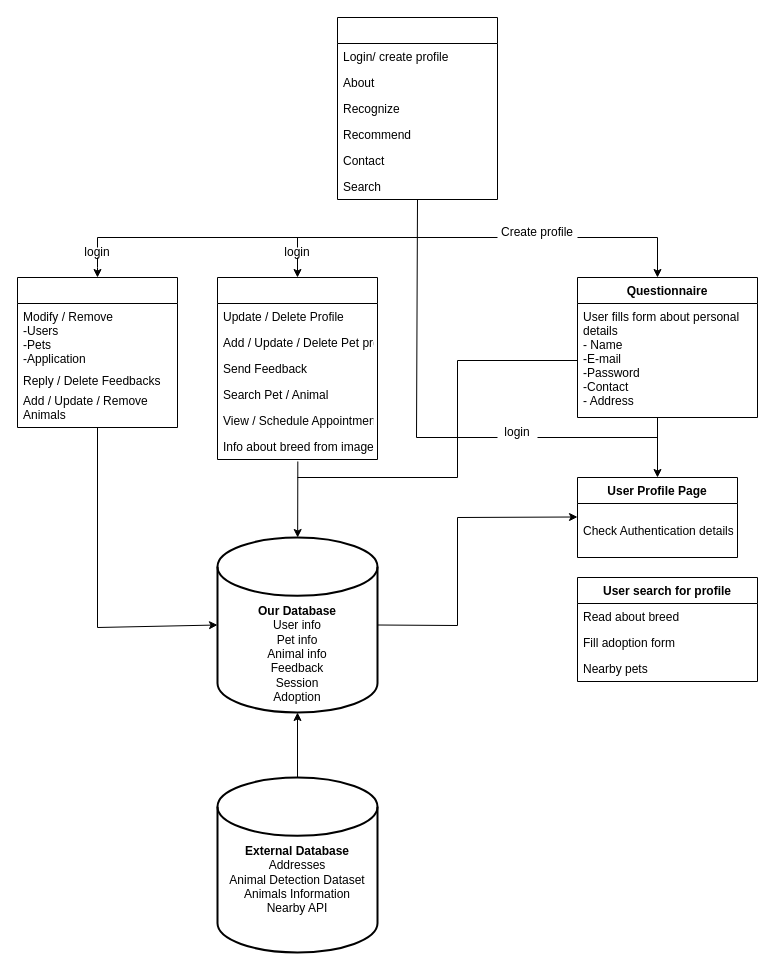
Some shapes in this 775 by 971 pixel diagram are drawn without their labels. Here are the shapes that lost their labels. From the top down, the box of each, then its label:
(336, 16, 498, 200): Home
(16, 276, 178, 428): Admin
(216, 276, 378, 460): User
